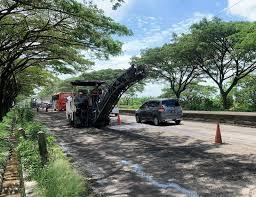Pothole: (41, 107, 256, 197)
